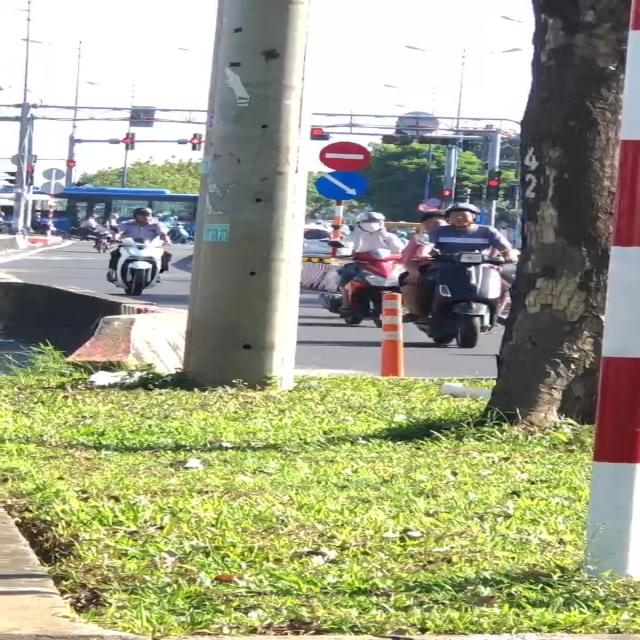Bien bao cam di nguoc chieu: (316, 142, 376, 170)
Bien bao huong phai di vong chuong ngai vat: (313, 169, 377, 202)
